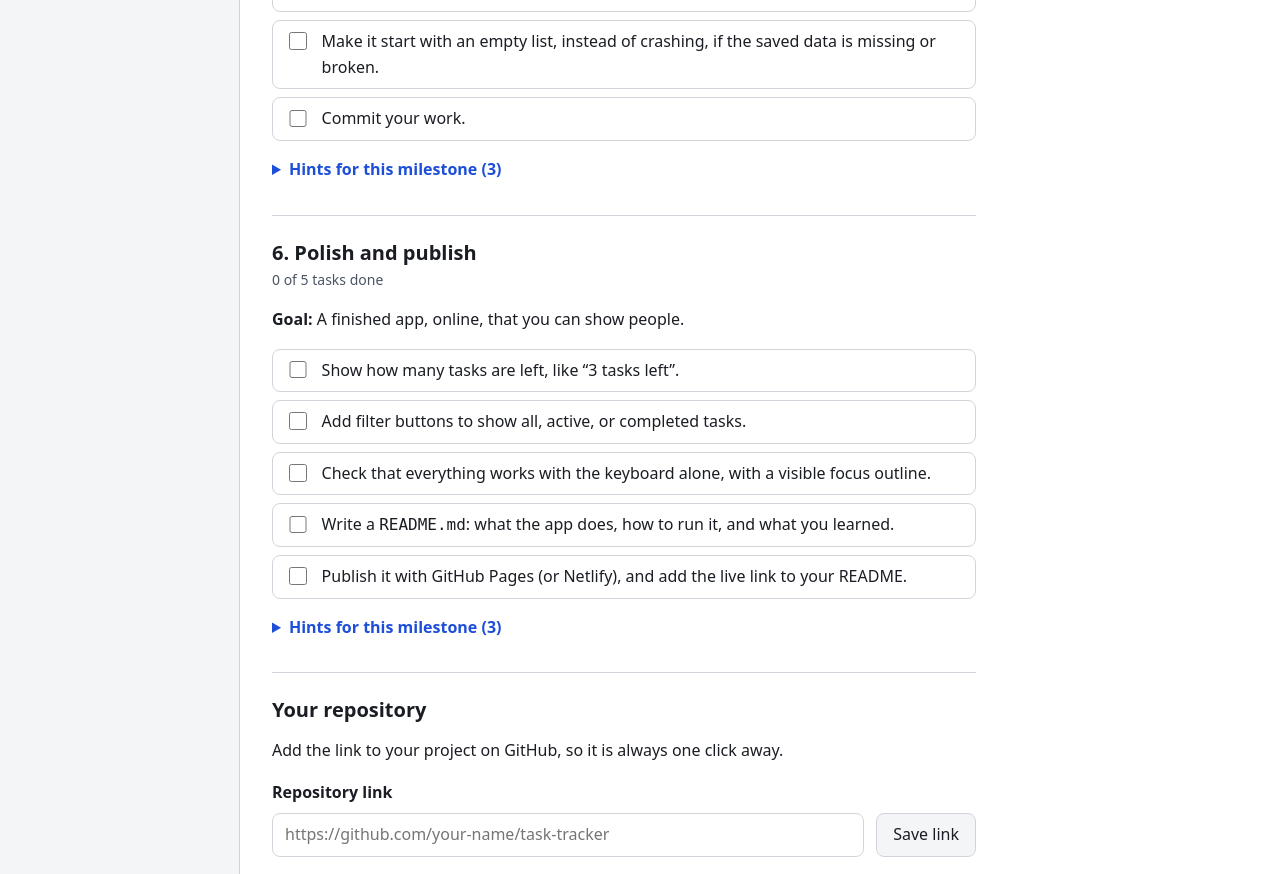
repository link › removes the link when saved empty
The width and height of the screenshot is (1280, 874).
(page scrolled)
Type "https://github.com/me/tt" into the field labelled "Repository link".
click(568, 835); type("https://github.com/me/tt")  # box [272, 813, 864, 857]
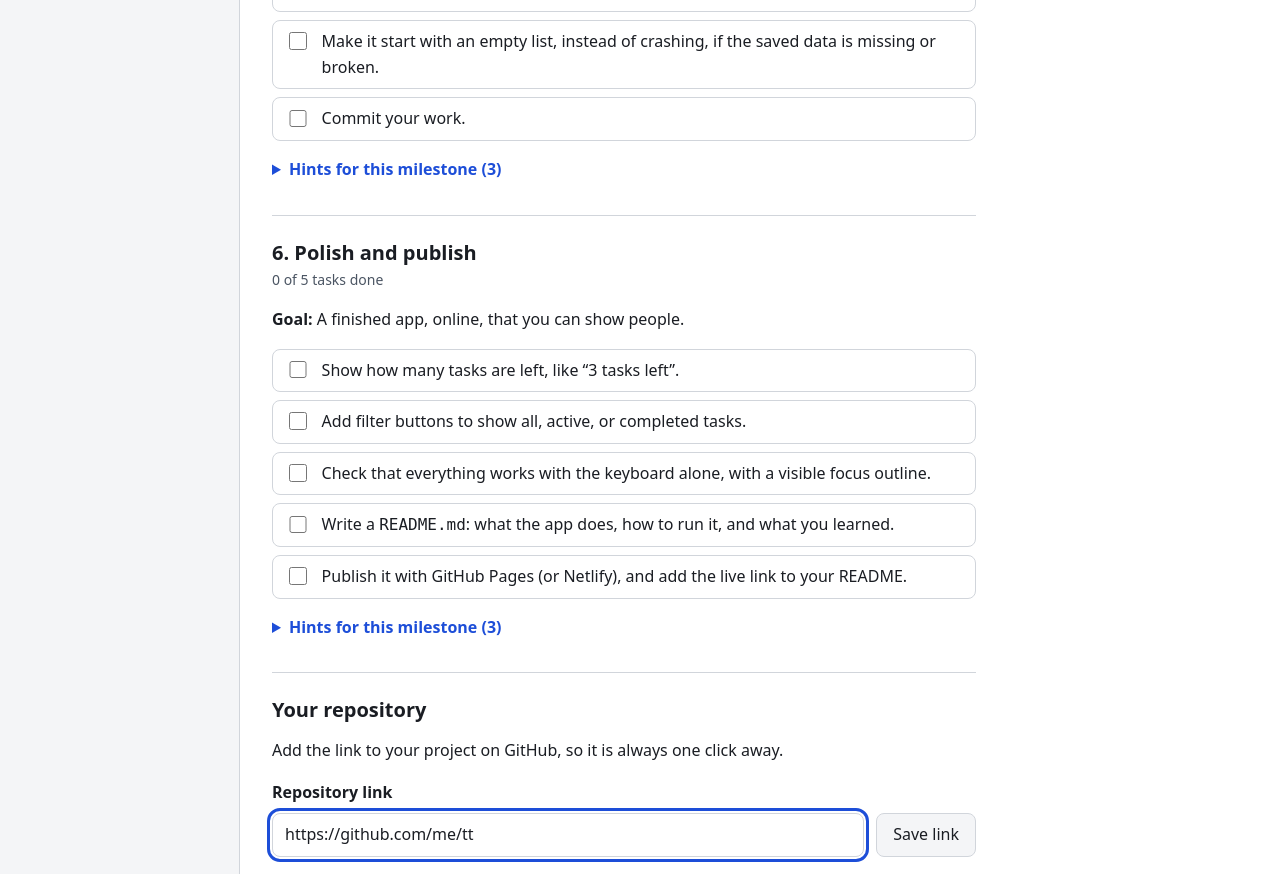
Click the button "Save link".
click(926, 835)  # box [876, 813, 976, 857]
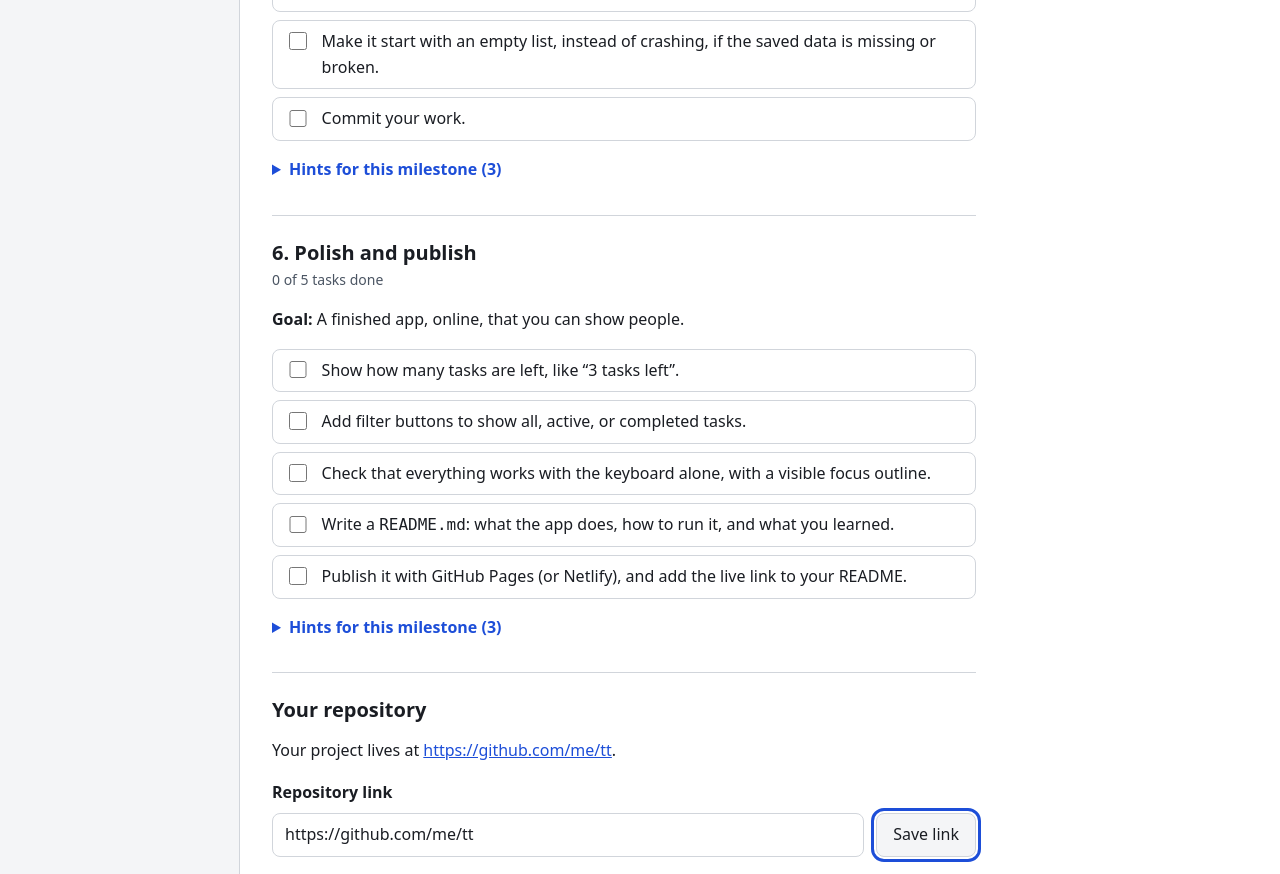
Clear the field labelled "Repository link" at (568, 835), box [272, 813, 864, 857]
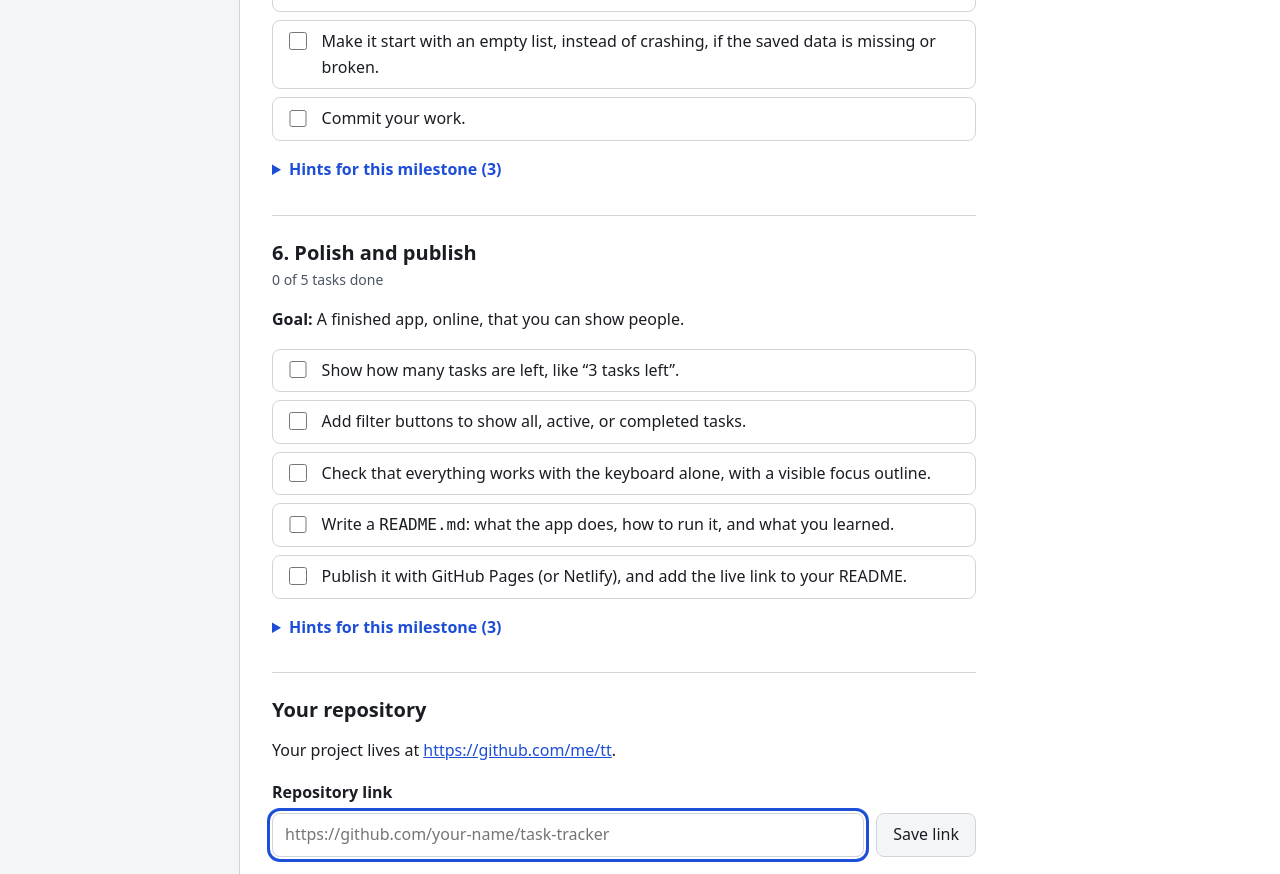
Click the button "Save link".
click(926, 835)  # box [876, 813, 976, 857]
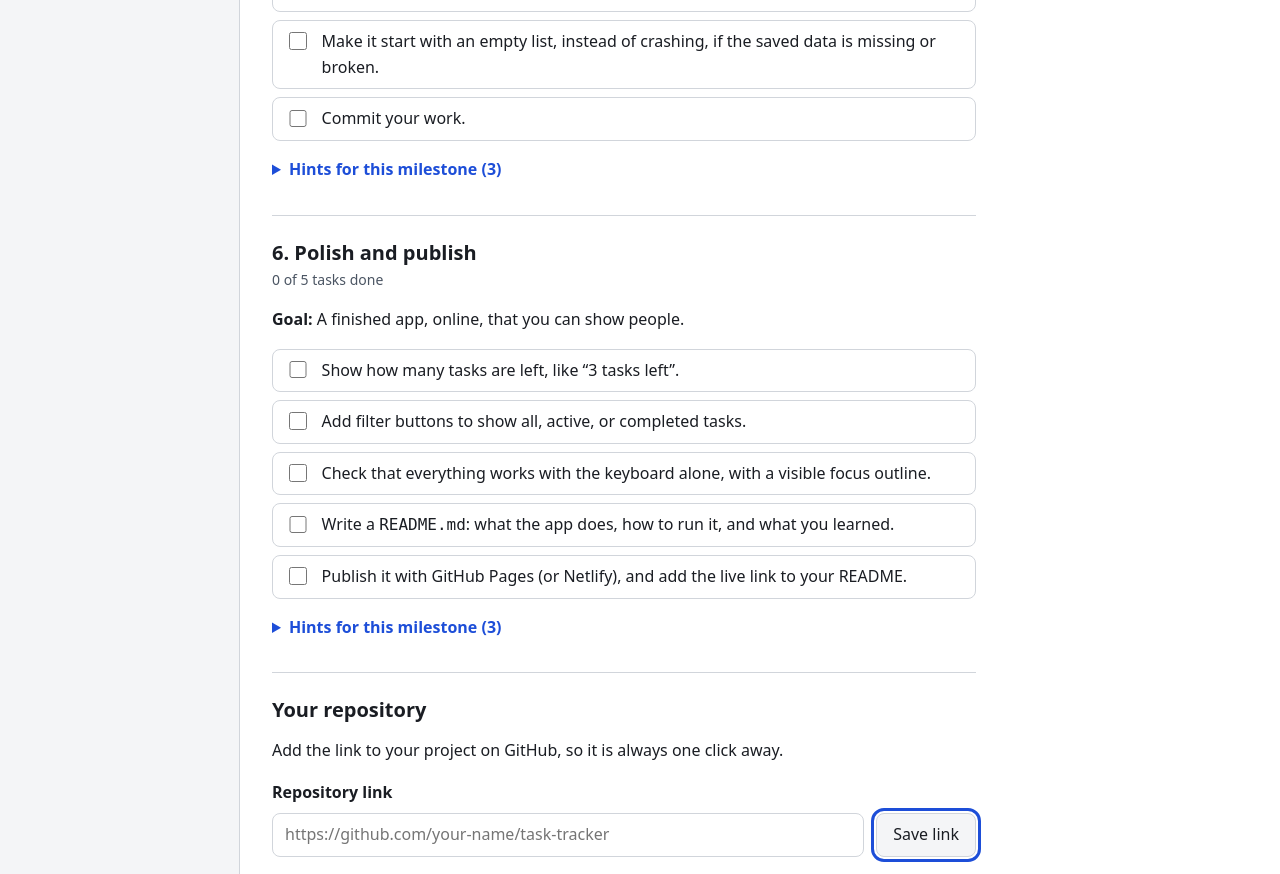
Expected: the link "github.com/me" is gone
